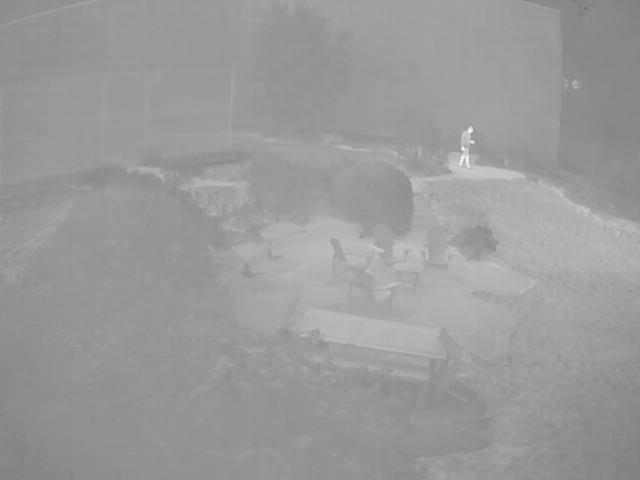person: (460, 126, 474, 170)
